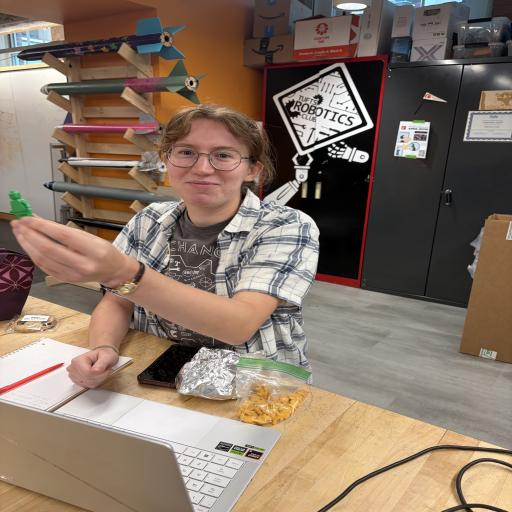Green-Lego: (9, 191, 39, 219)
